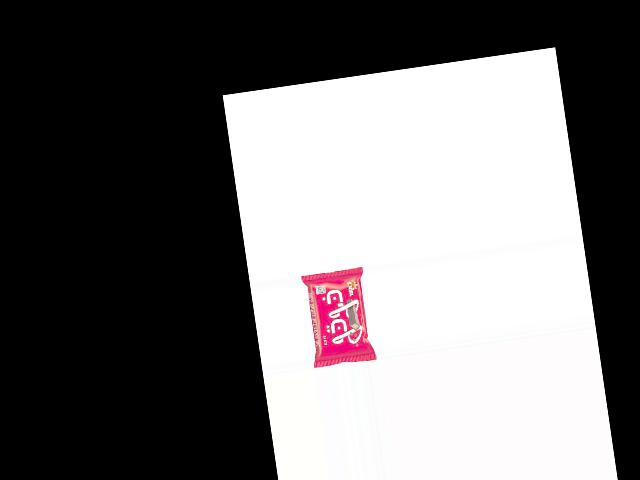chocolate: (299, 267, 376, 368)
